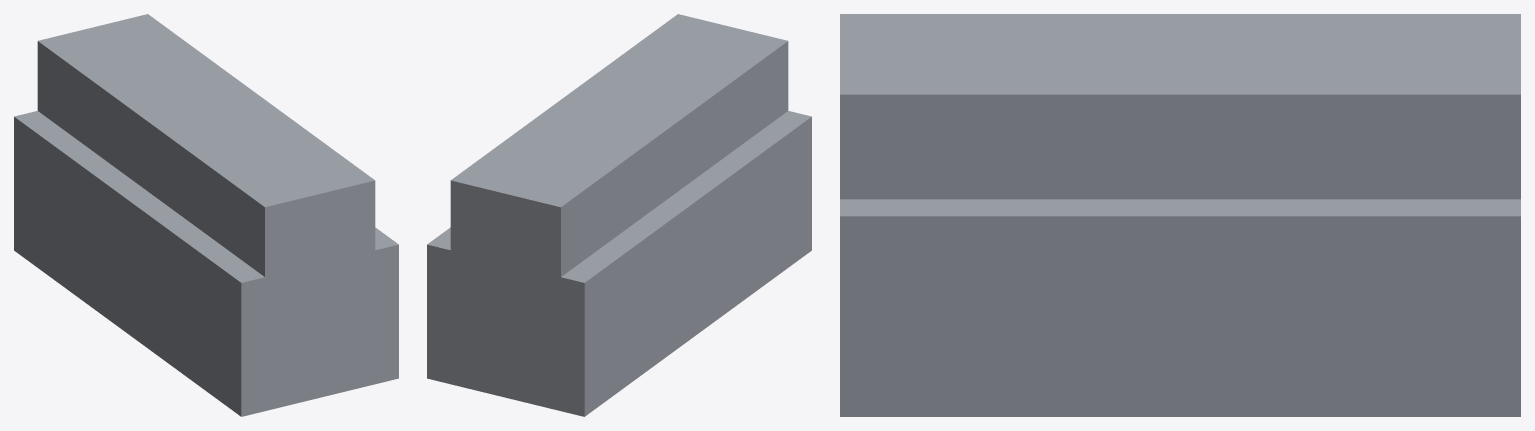
File: parkingBorder.fbx
3 views of the same model, side by side, from view 1: azimuth 30°, elevation 25°; view 2: azimuth 150°, elevation 25°; view 3: azimuth 270°, elevation 25° (orthographic). The views are drawn at different scales.
Parts seen in each view (by area): view 1: Cube.004; view 2: Cube.004; view 3: Cube.004.
Part boxes in pixels (left/top/right/bottom): Cube.004: left=14, top=14, right=398, bottom=416; Cube.004: left=427, top=14, right=811, bottom=416; Cube.004: left=840, top=14, right=1520, bottom=416.
Size of the model in its own units: 0.8 by 0.9893 by 2.
Materials: 1 (1 with a texture image).
